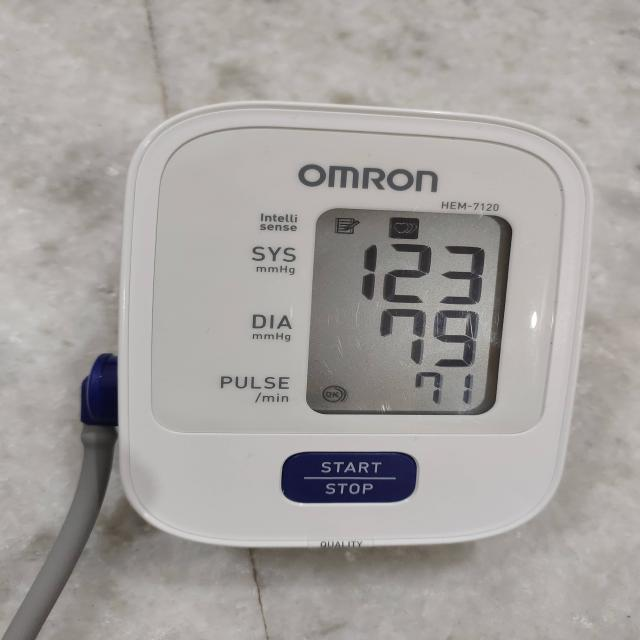bp: (114, 101, 596, 552)
